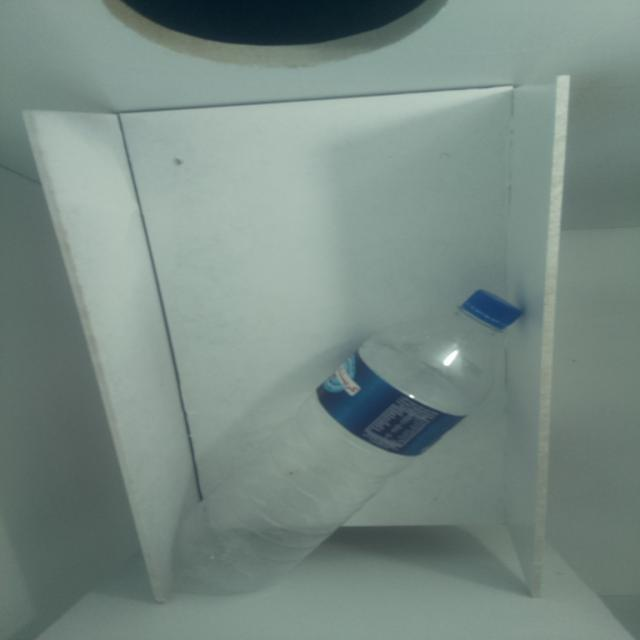bottle: (152, 255, 532, 608)
cap: (459, 279, 525, 335)
label: (316, 351, 472, 464)
